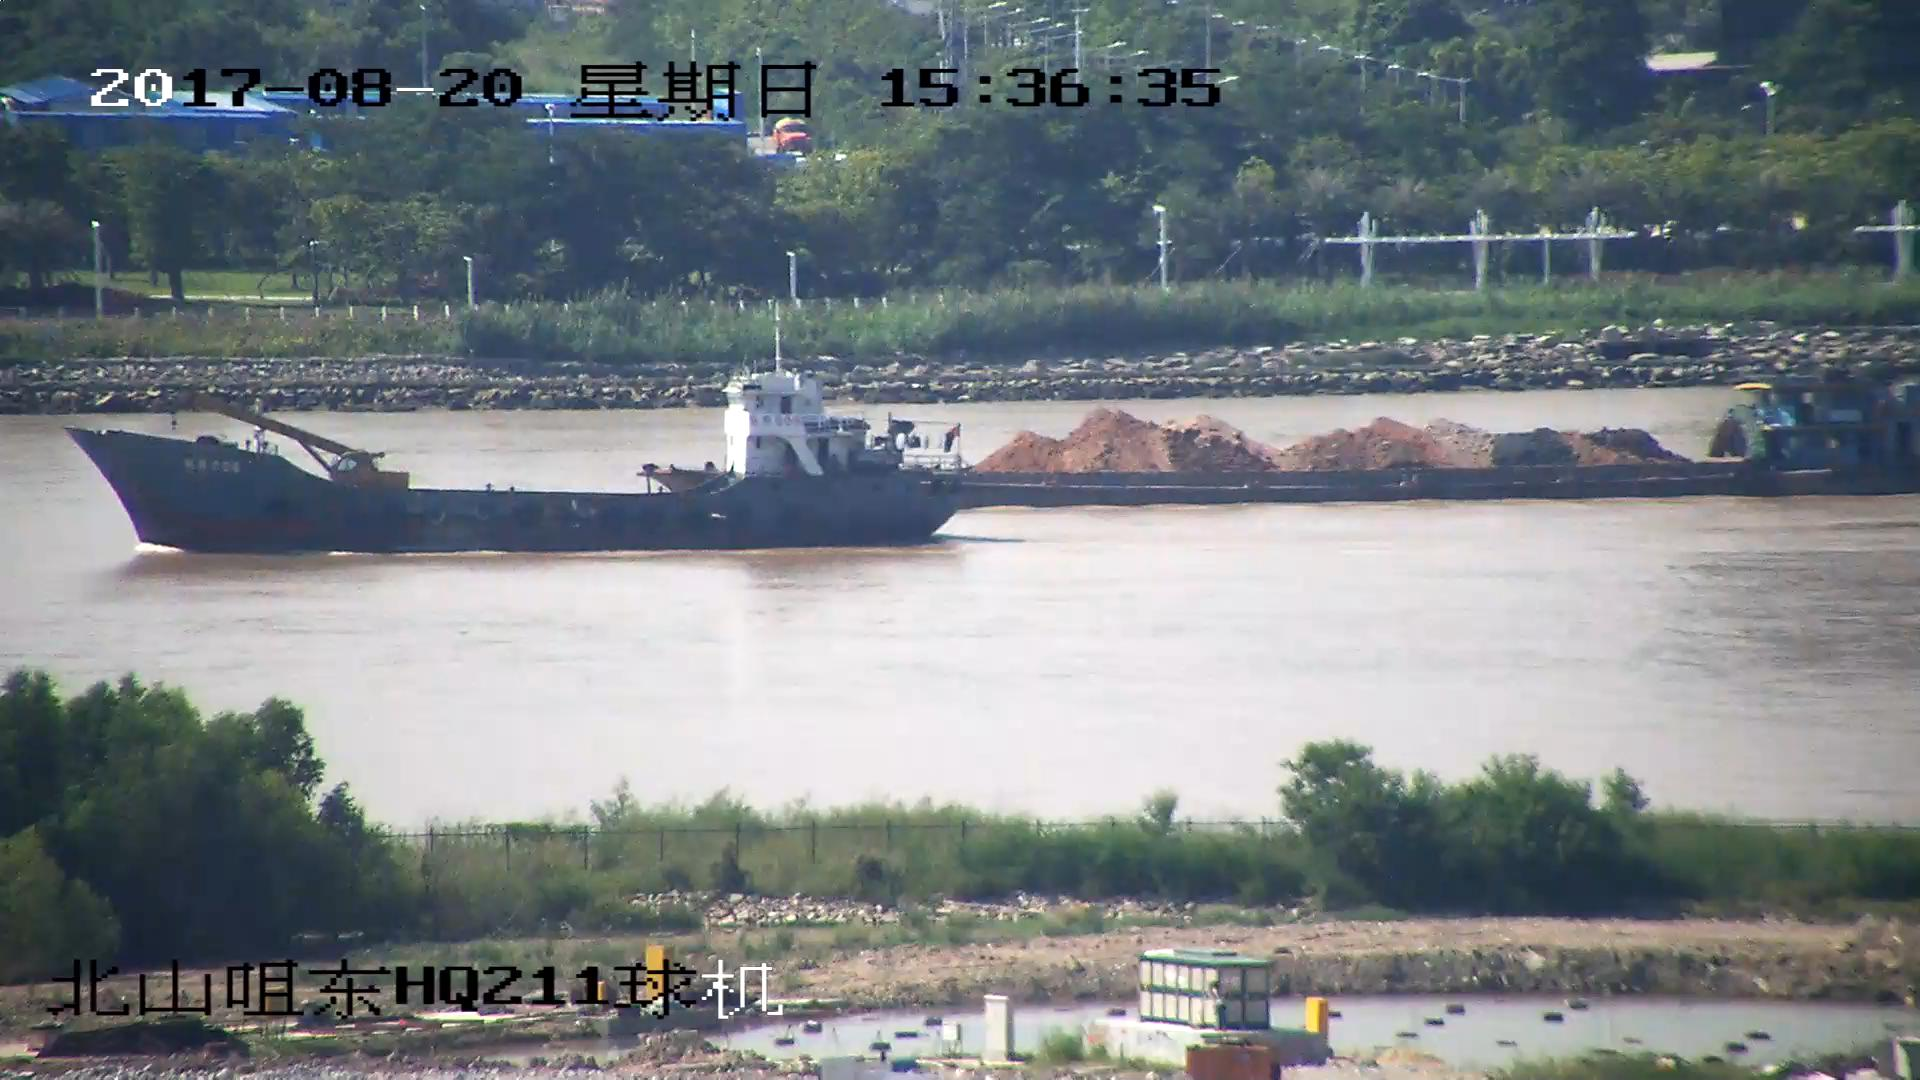general cargo ship: (65, 318, 970, 554)
ore carrier: (644, 373, 1920, 502)
